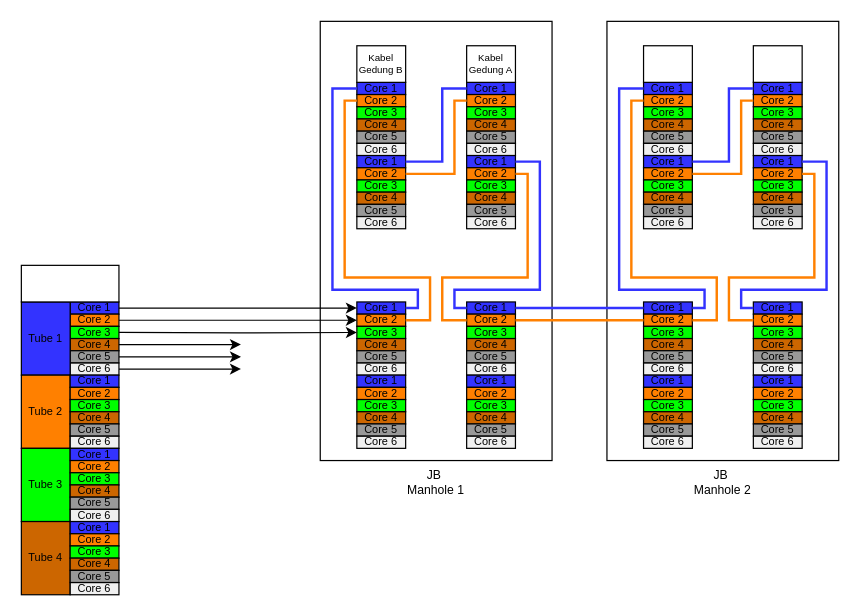
Image size: 860x616. Some labels were removed from this diagram. The centre of each missing label's shape, as x and y in pixels:
"Kabel Gedung E" belongs at point (667, 63).
"Kabel Gedung G" belongs at point (777, 63).
"ODC" belongs at point (69, 283).
